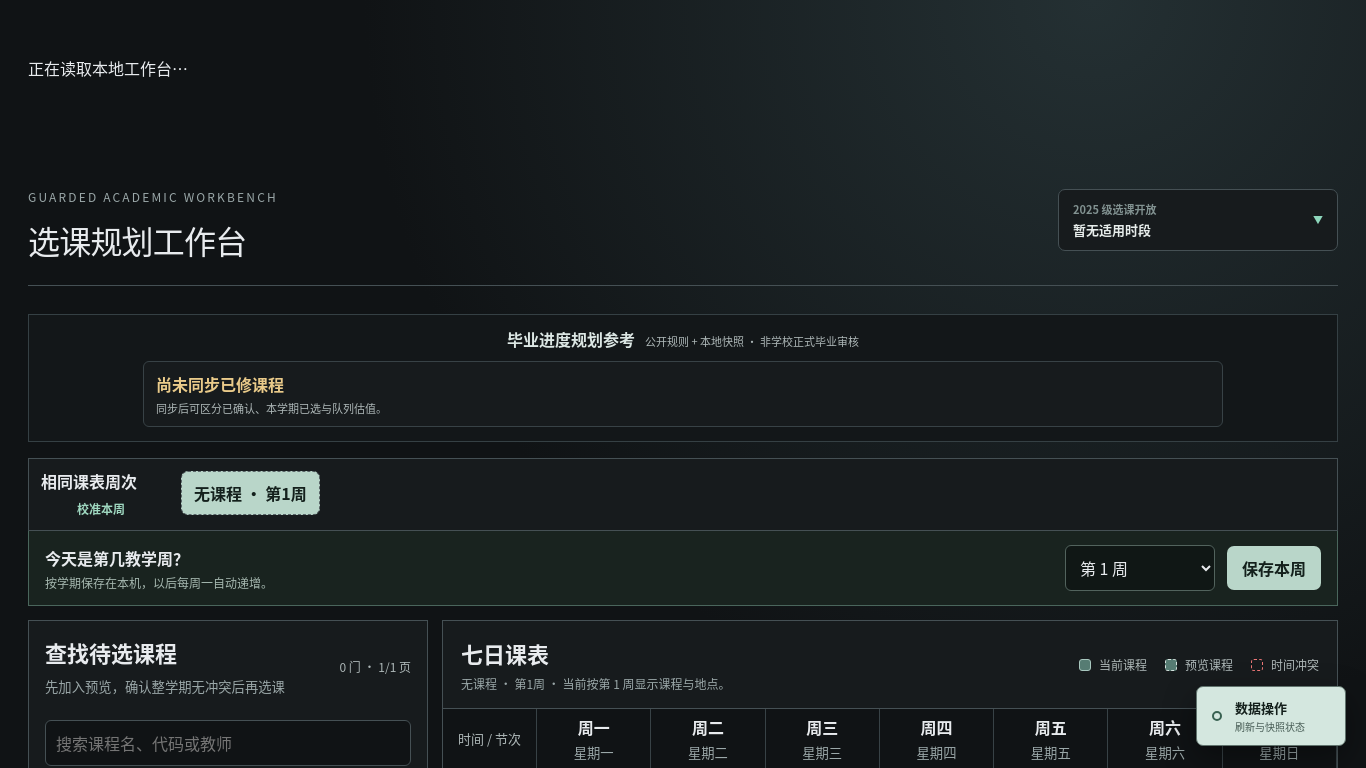
Test: requirement baseline selection › shows applicability and historical progress before explicitly confirmed local selection
The image size is (1366, 768).
expect the heading "选课规划工作台" is shown: met, box [28,217,278,263]
Click the button "数据操作 刷新与快照状态": (1271, 716) [1196,686,1346,746]
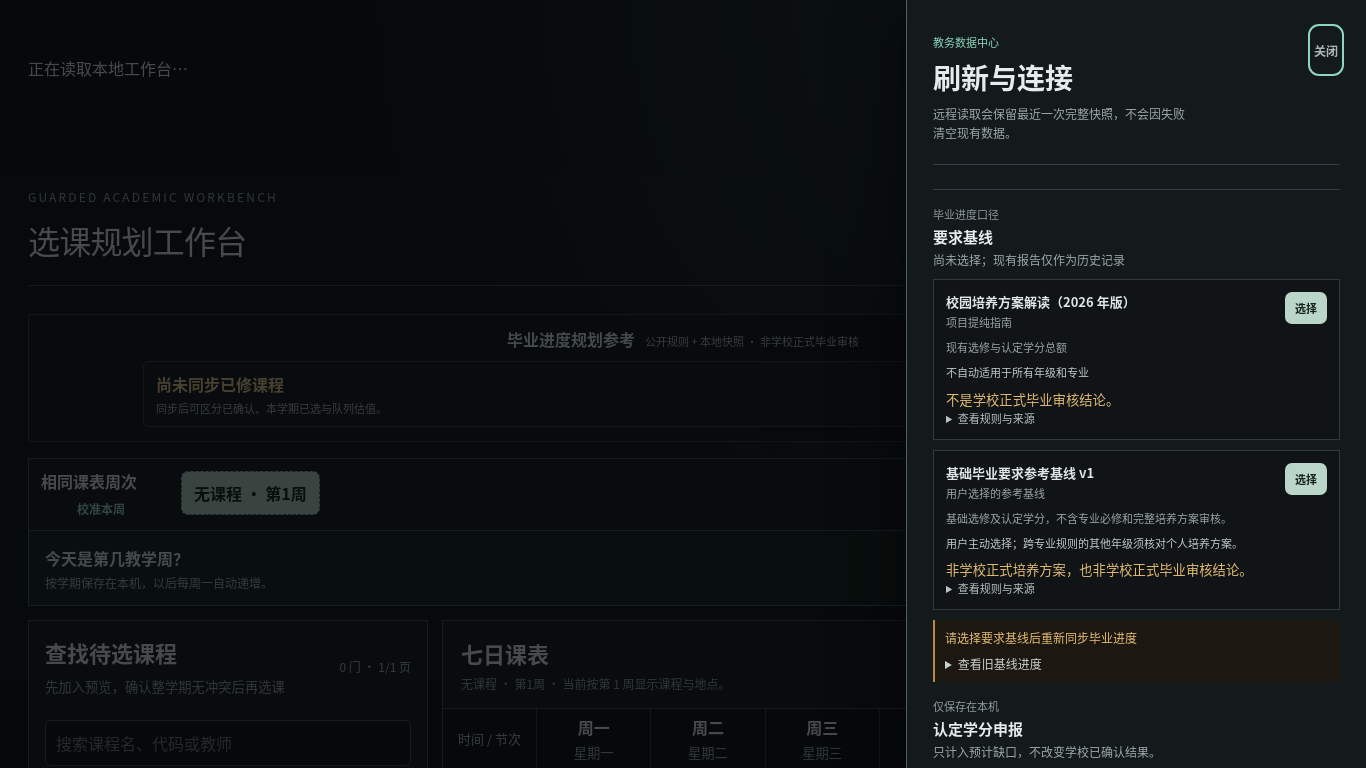
expect the text "基础毕业要求参考基线 v1" is shown: met, box [946,462,1094,482]
expect the text "用户主动选择；跨专业规则的其他年级须核对个人培养方案。" is shown: met, box [946,535,1243,551]
expect the text "非学校正式培养方案，也非学校正式毕业审核结论。" is shown: met, box [946,560,1252,579]
Click the button "选择" in the row of "基础毕业要求参考基线 v1": (1306, 478) [1285,462,1327,494]
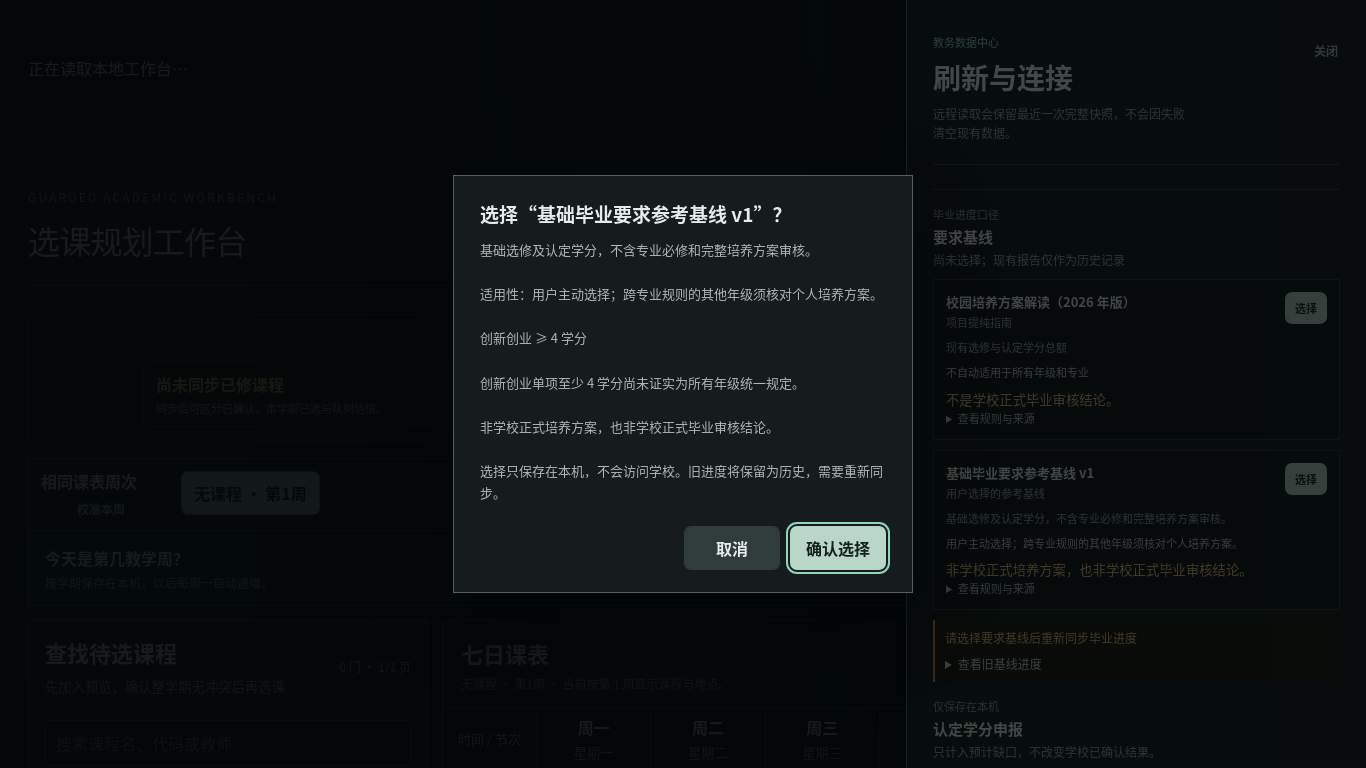
expect the text "非学校正式培养方案" is shown: met, box [480,240,883,502]
Click the button "确认选择": (838, 548) [790,526,886,570]
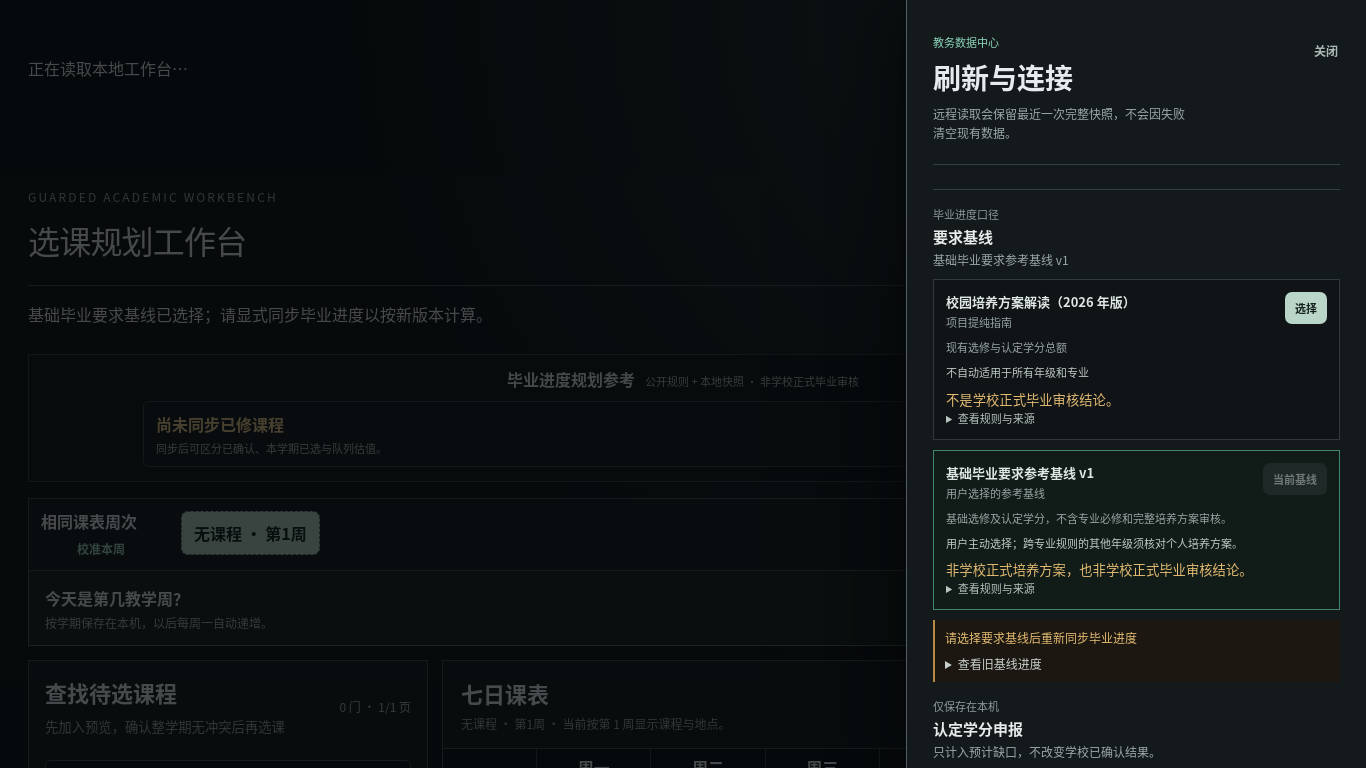
expect the heading "查看旧基线进度" is shown: met
Click the heading "查看旧基线进度": (1000, 663) [958,655,1042,672]
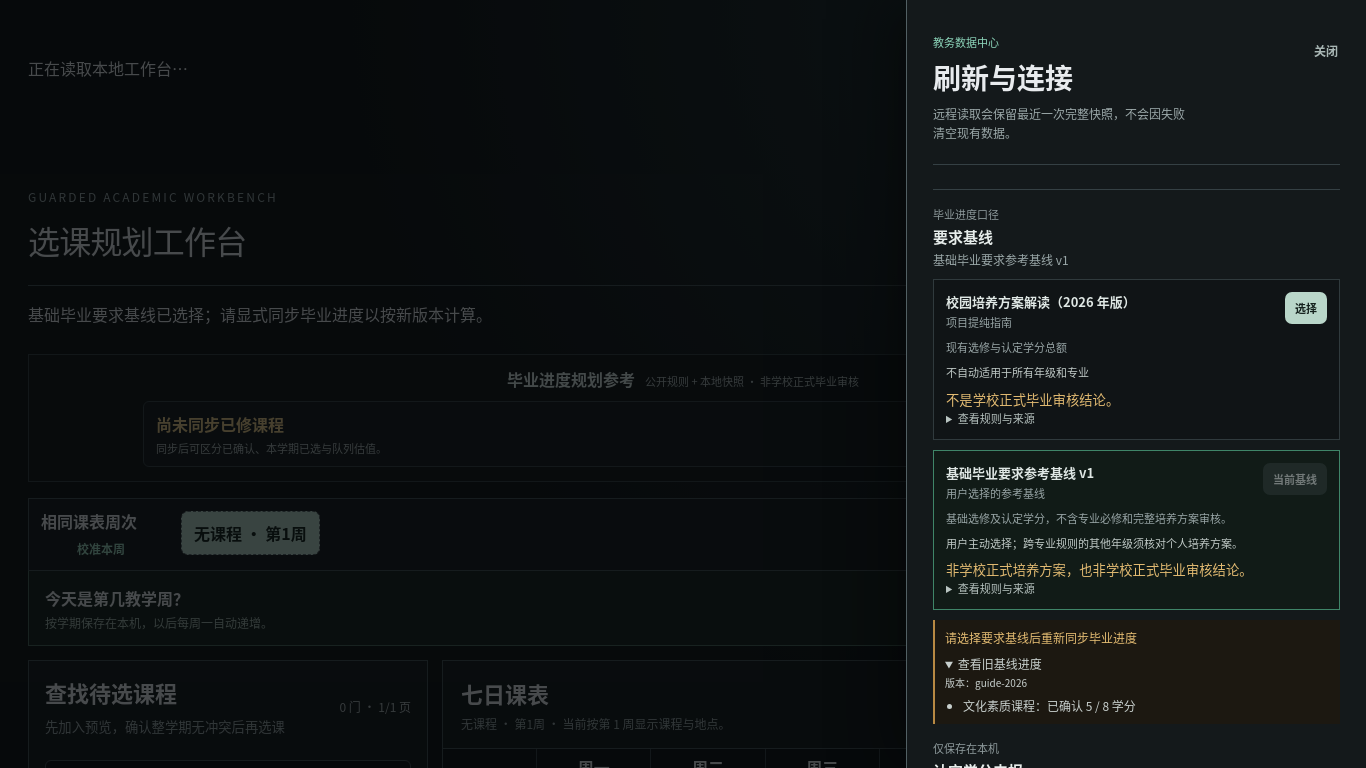
expect the list item "文化素质课程：已确认 5 / 8 学分" is shown: met, box [963,697,1136,714]
